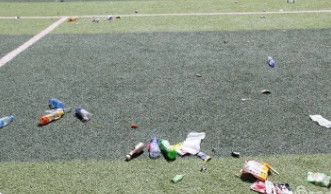garbage: (143, 132, 210, 163), (40, 95, 74, 126), (230, 160, 276, 181), (246, 181, 308, 194), (301, 167, 331, 187), (305, 107, 331, 128), (121, 140, 144, 160), (2, 112, 20, 136), (72, 105, 91, 122), (91, 14, 123, 22), (262, 55, 277, 71), (125, 120, 142, 133), (168, 172, 183, 183), (229, 150, 248, 158), (261, 87, 273, 95), (68, 14, 79, 22), (129, 7, 138, 16)
